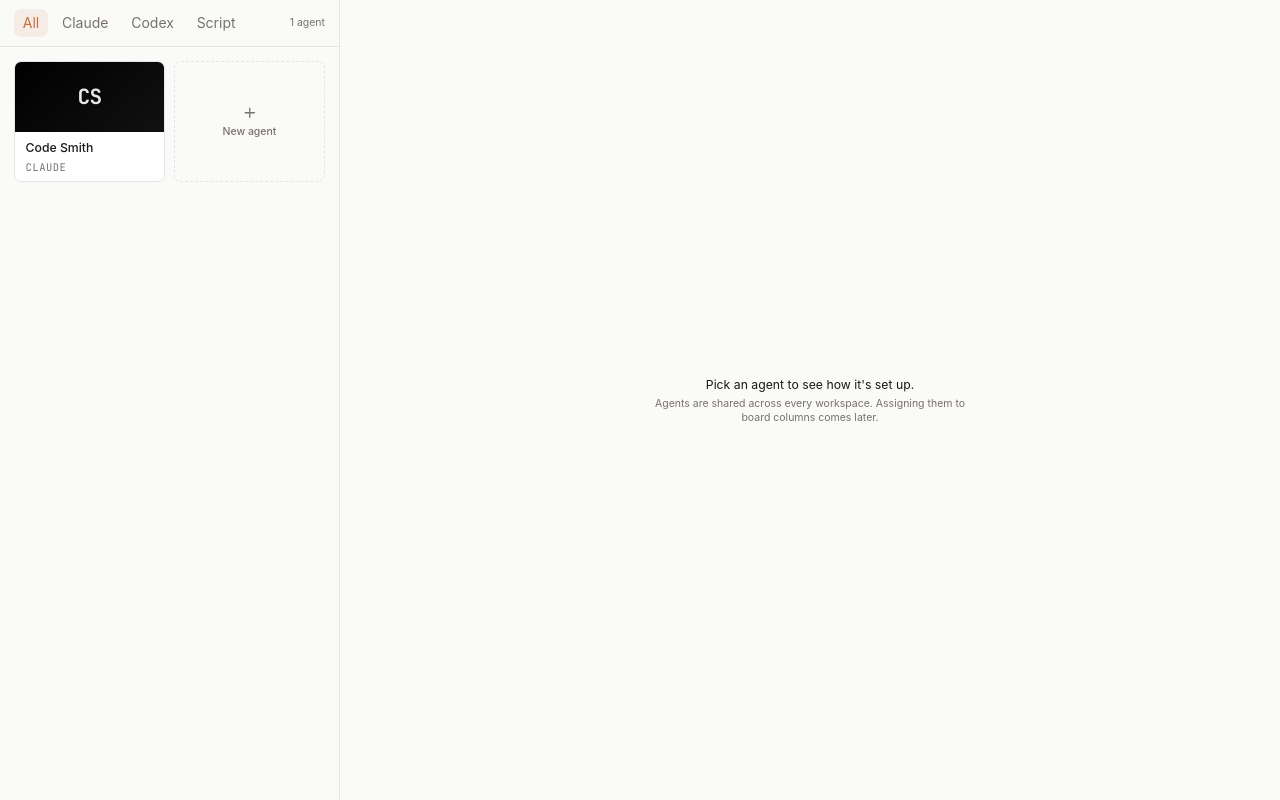
Test: RosterView › the delete confirmation names the columns that would break
Click the button with test id "agent-tile-a1".
click(90, 121)  # box x1=14 y1=60 x2=165 y2=182
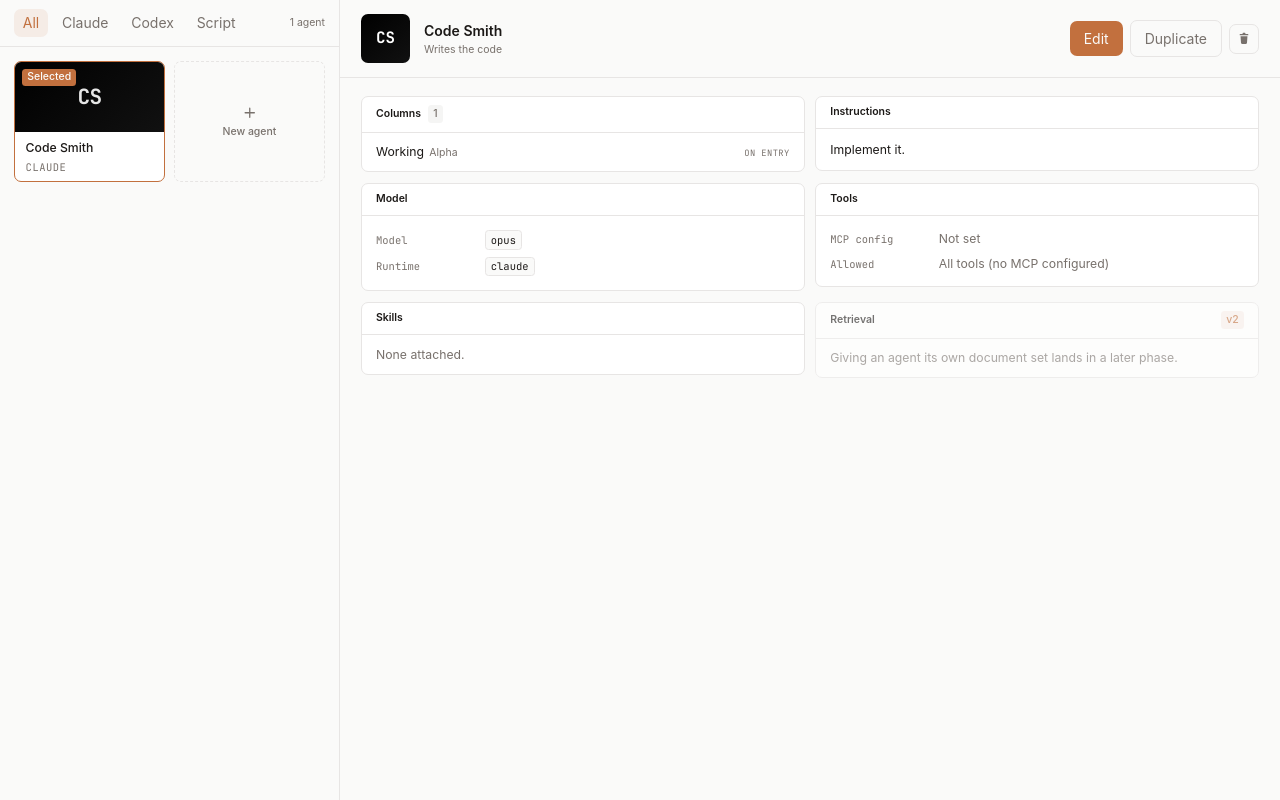
Now the text "Working" is shown, box x1=376 y1=144 x2=424 y2=159
Click the button with test id "agent-delete".
click(1244, 38)  # box x1=1229 y1=24 x2=1259 y2=54
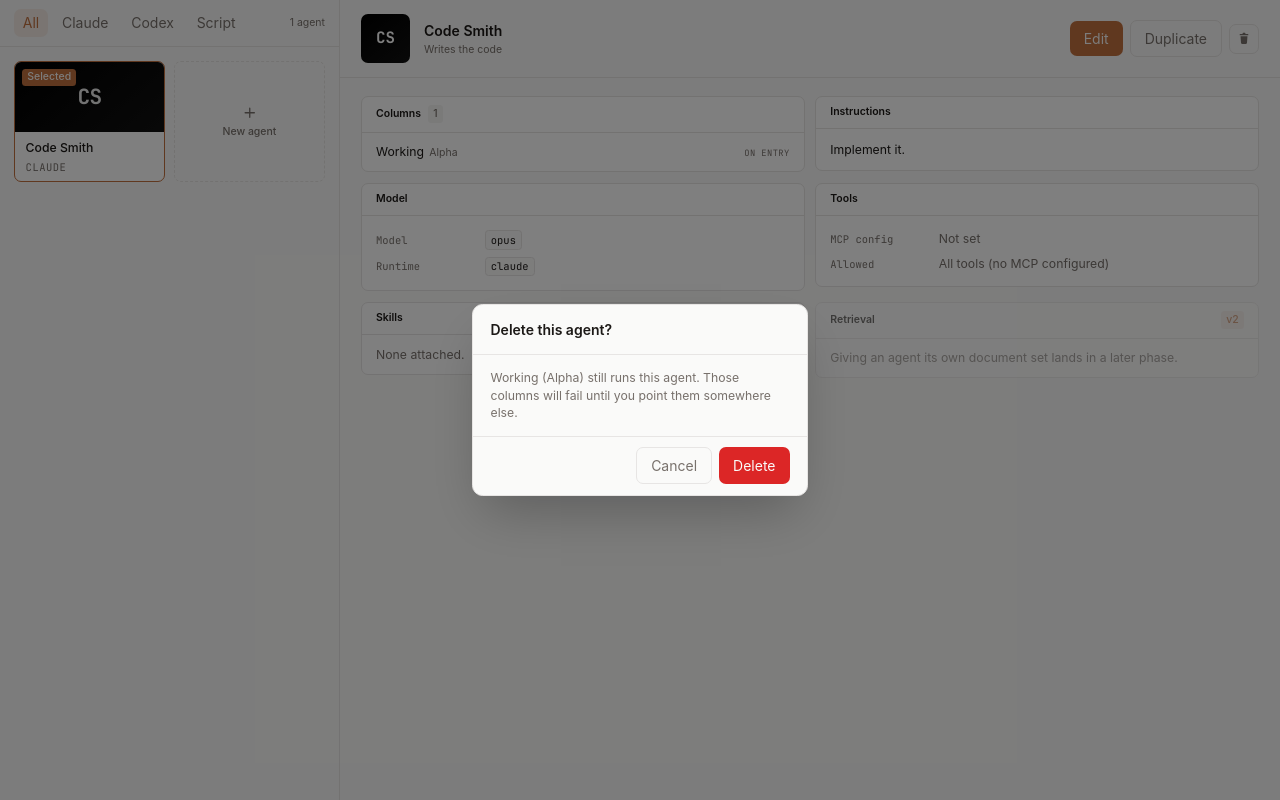
Now the text "Working (Alpha) still runs this agent" is shown, box x1=490 y1=370 x2=771 y2=420
